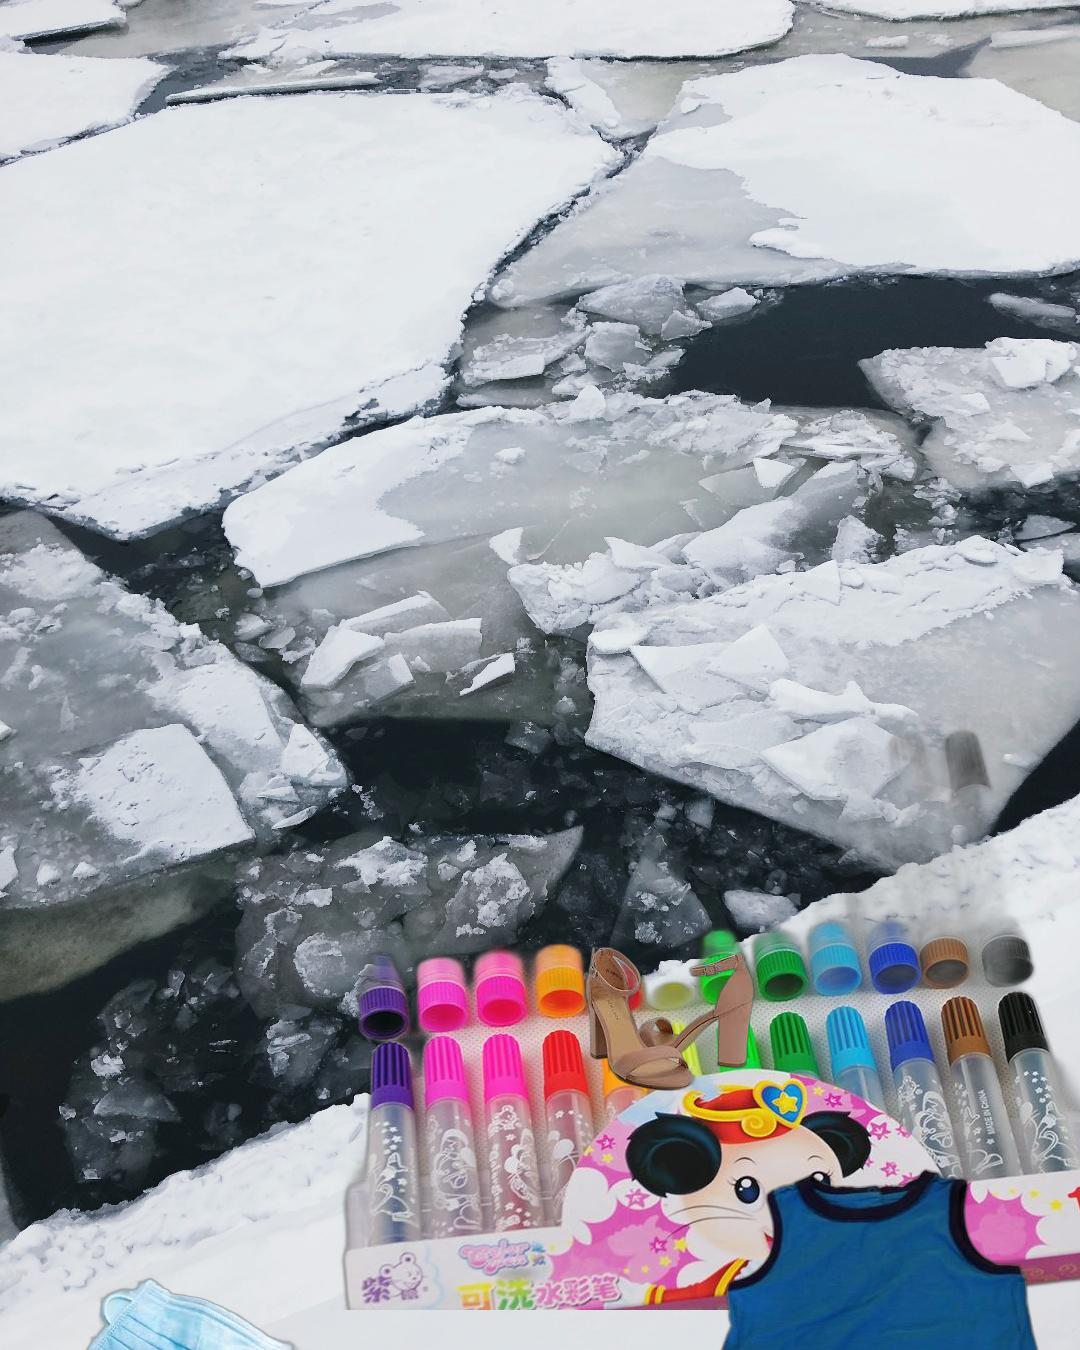clothes: (695, 1165, 1079, 1350), (637, 1272, 985, 1350)
penholder: (330, 576, 1080, 1310)
shoes: (580, 944, 757, 1093)
trash: (80, 1273, 324, 1350)
